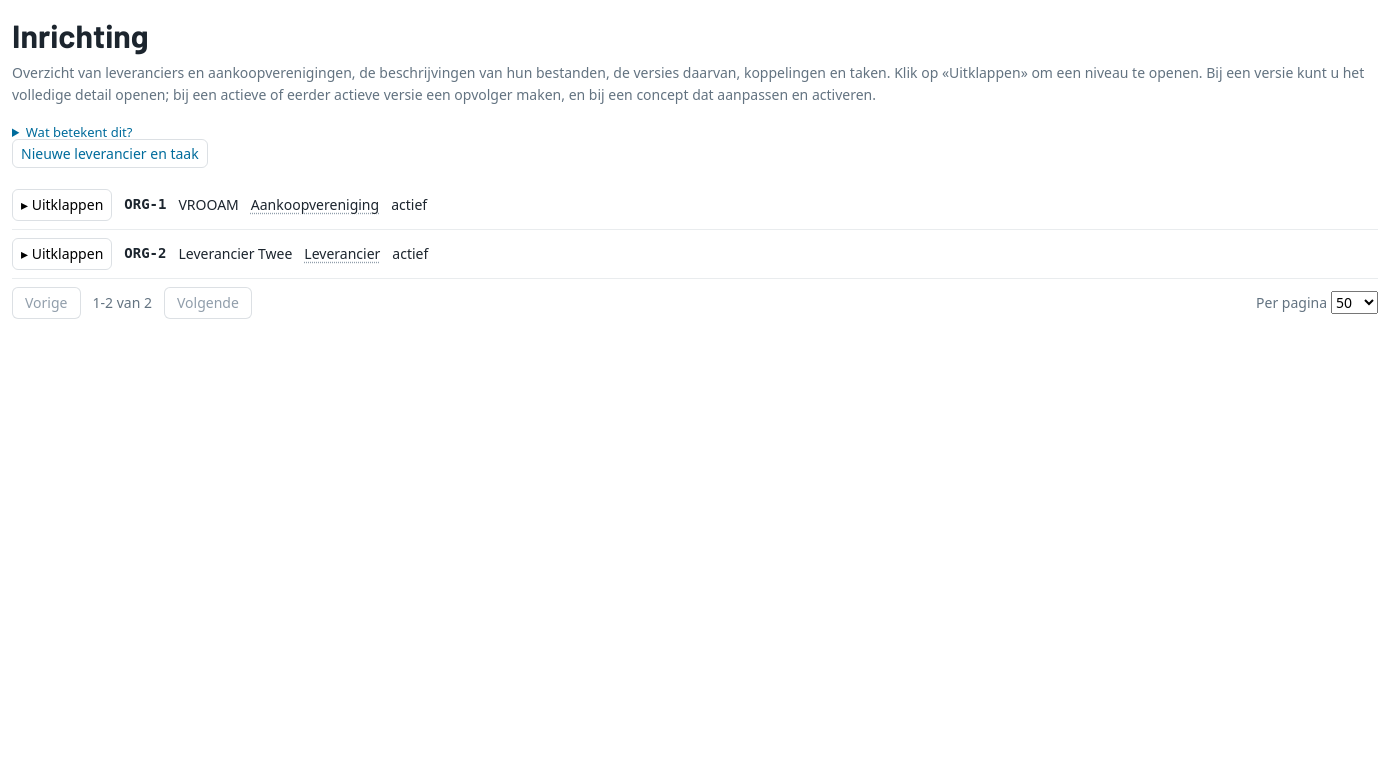
Test case: SetupOverviewPage › NT-7.2: koppeling zonder taak toont een Nederlandse uitleg
The width and height of the screenshot is (1390, 768).
Click the button "▸ Uitklappen" next to "ORG-1": (62, 205) [12,189,112,221]
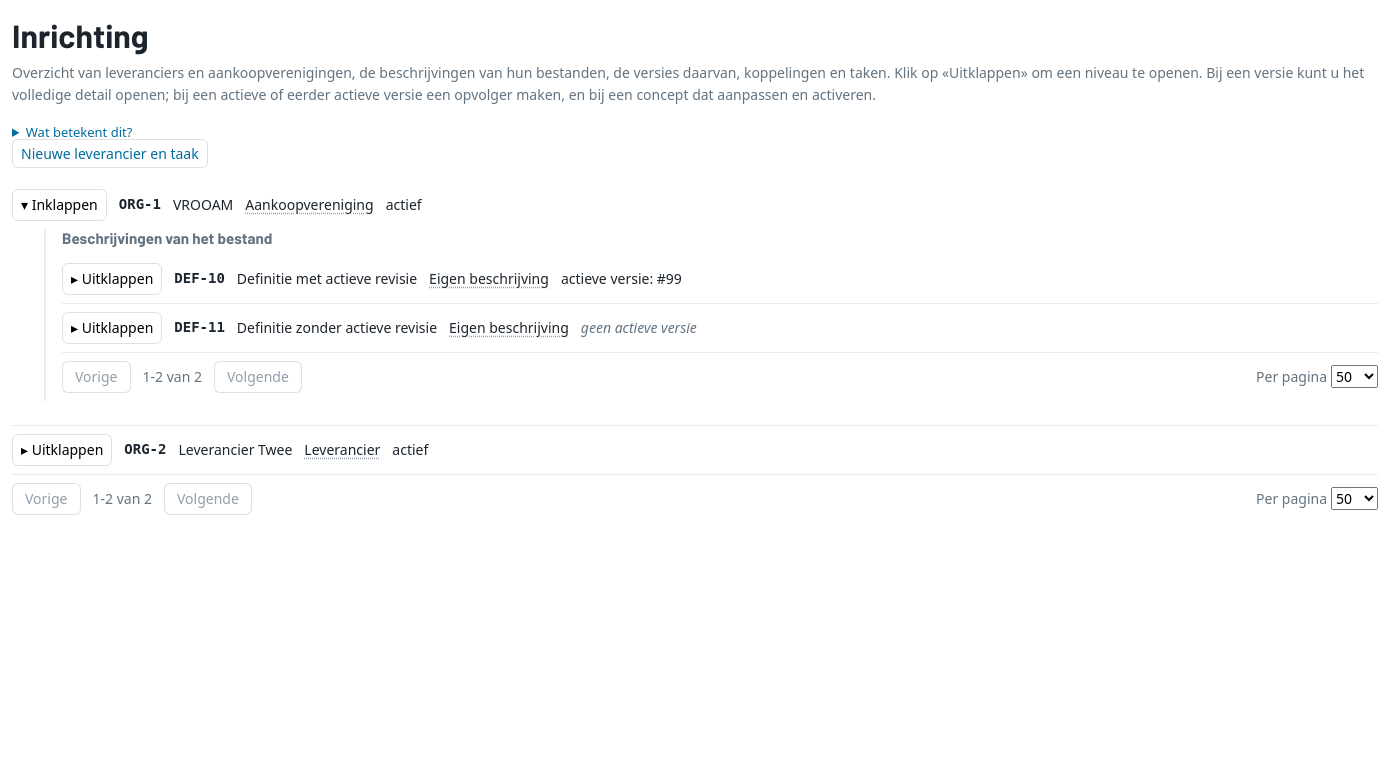
Click the button "▸ Uitklappen" next to "DEF-10": (112, 279) [62,263,162,295]
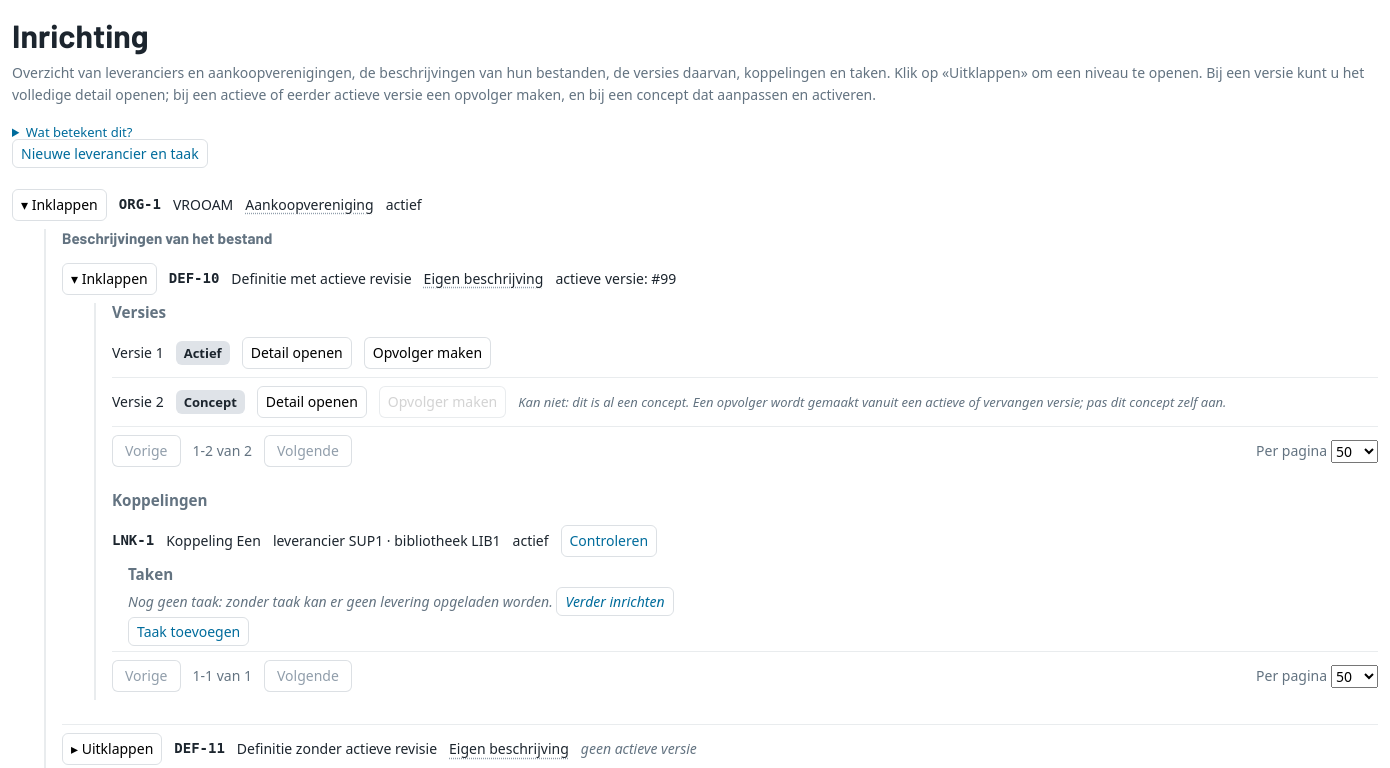
Check: the text "Nog geen taak" is shown, box [128,592,553,612]
